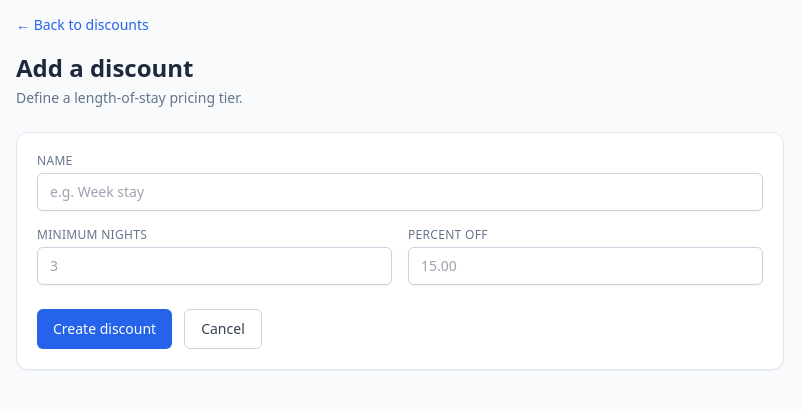
Staff discount form › rejects a percent off above 100
This screenshot has width=801, height=411.
Type "Too much" into the field labelled "Name".
click(400, 192); type("Too much")  # box [37,173,763,211]
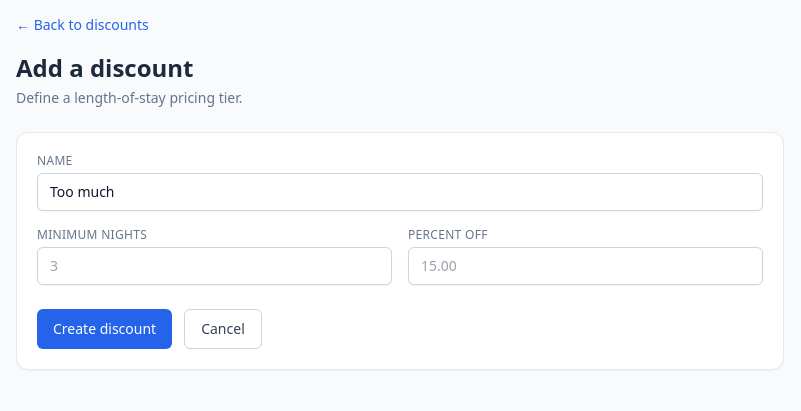
Type "1" into the number field labelled "Minimum nights".
click(214, 266); type("1")  # box [37,247,392,285]
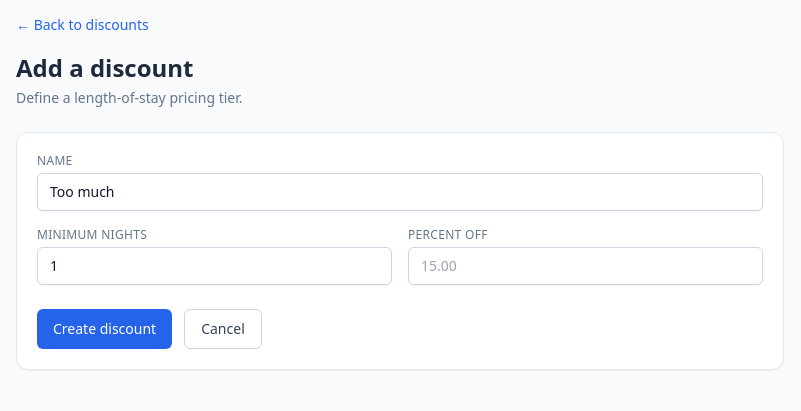
Type "100.5" into the field labelled "Percent off".
click(586, 266); type("100.5")  # box [408,247,763,285]
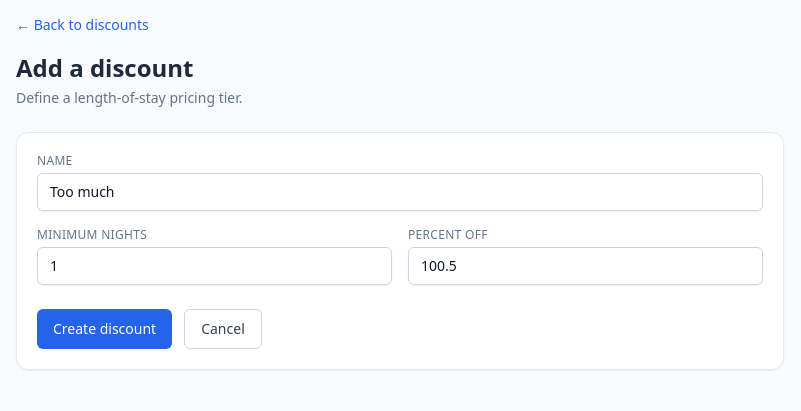
Click the button "Create discount".
click(105, 329)  # box [37,309,172,349]
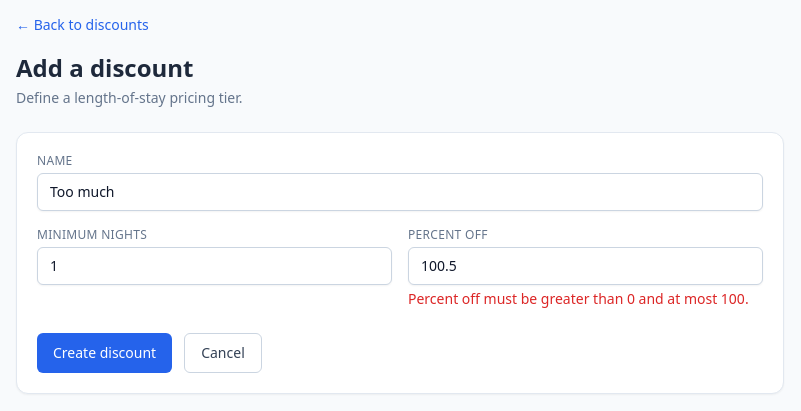
Now the text "Percent off must be greater than 0 and at most 100." is shown, box [408,289,763,309]
